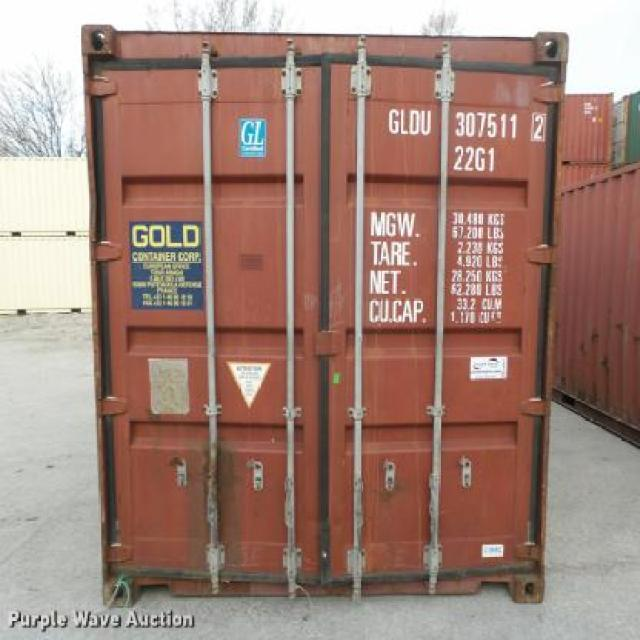ISO: (454, 146, 496, 172)
container_number: (387, 108, 542, 140)
